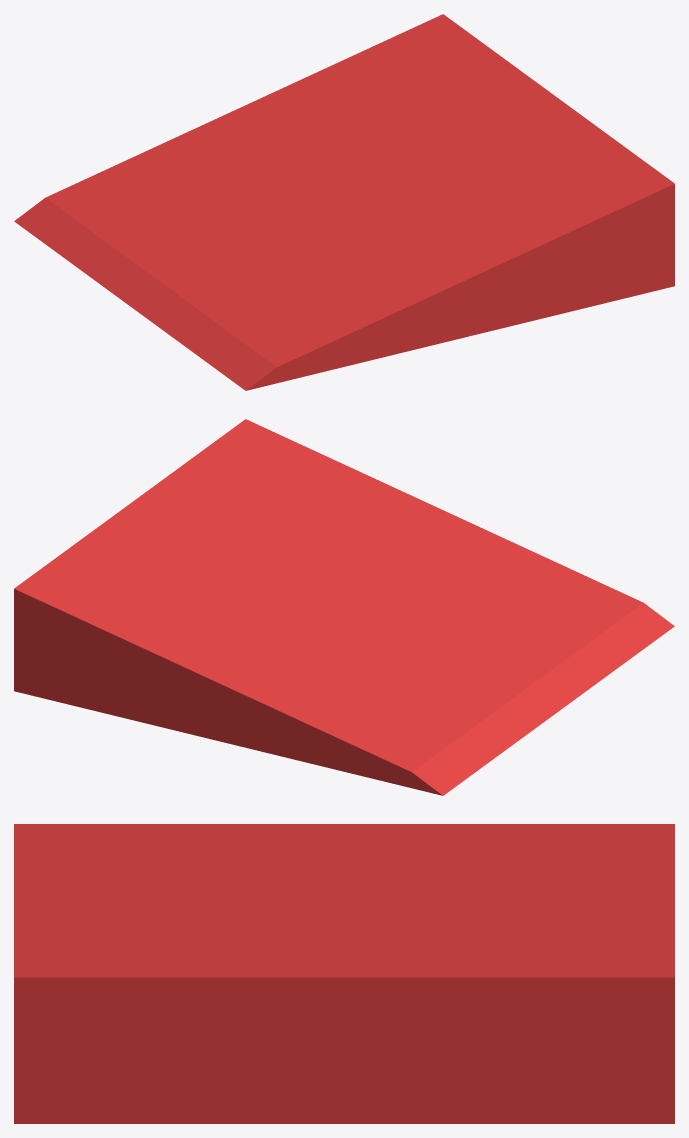
File: Ramp.fbx
3 views of the same model, one above another, from view 1: azimuth 30°, elevation 25°; view 2: azimuth 150°, elevation 25°; view 3: azimuth 270°, elevation 25° (orthographic). The views are drawn at different scales.
Parts seen in each view (by area): view 1: Ramp.001; view 2: Ramp.001; view 3: Ramp.001.
Boxes of the visible parts, bbox=[...] form: Ramp.001: bbox=[14, 14, 674, 390]; Ramp.001: bbox=[14, 419, 674, 795]; Ramp.001: bbox=[14, 824, 674, 1123].
Bounding box in the file's own units: 3535 × 807 × 3306.
